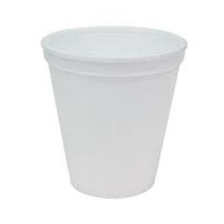paper_cup: (35, 19, 191, 202)
